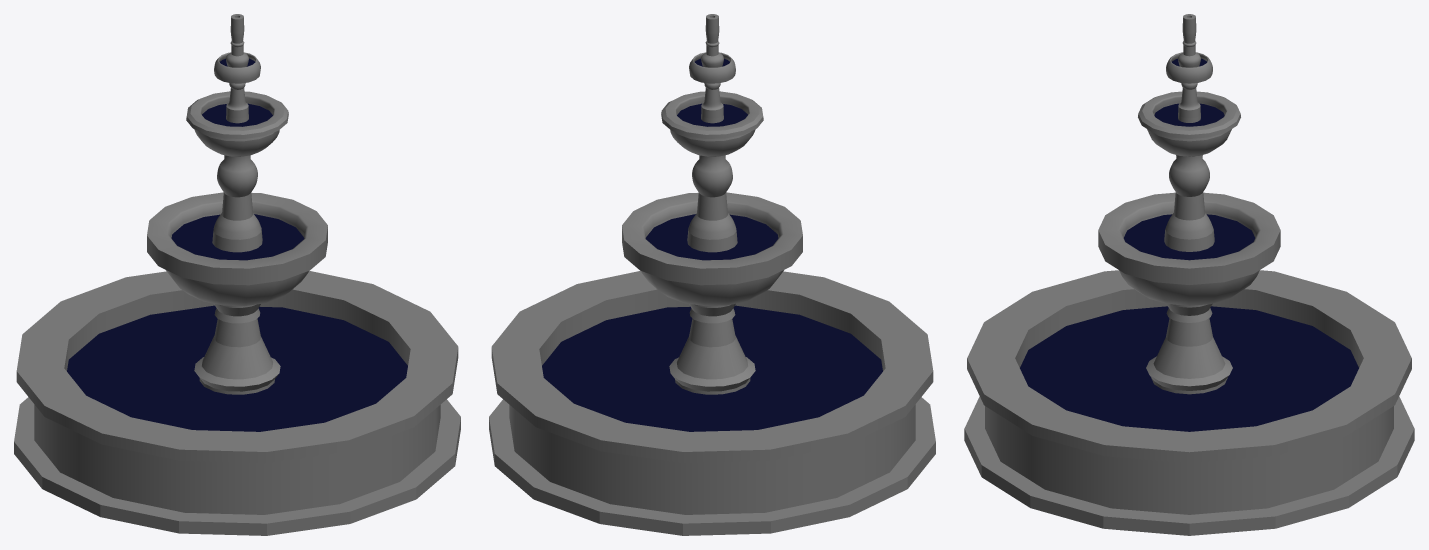
Rendered from Fountain.fbx.
3 views of the same model, side by side, from view 1: azimuth 30°, elevation 25°; view 2: azimuth 150°, elevation 25°; view 3: azimuth 270°, elevation 25° (orthographic).
Parts seen in each view (by area): view 1: Line001, Plane002, Plane003, Plane004; view 2: Line001, Plane002, Plane003, Plane004; view 3: Line001, Plane002, Plane003, Plane004.
Boxes of the visible parts, x1,y1,x2,y2 form: Line001: (14, 14, 460, 535); Plane002: (67, 305, 407, 431); Plane003: (171, 214, 304, 260); Plane004: (202, 103, 272, 126); Line001: (489, 14, 935, 535); Plane002: (542, 305, 882, 431); Plane003: (645, 214, 778, 260); Plane004: (677, 103, 747, 126); Line001: (964, 14, 1414, 535); Plane002: (1020, 306, 1358, 431); Plane003: (1123, 214, 1255, 260); Plane004: (1154, 103, 1224, 126).
Size of the model in its own units: 227 by 236 by 227.
